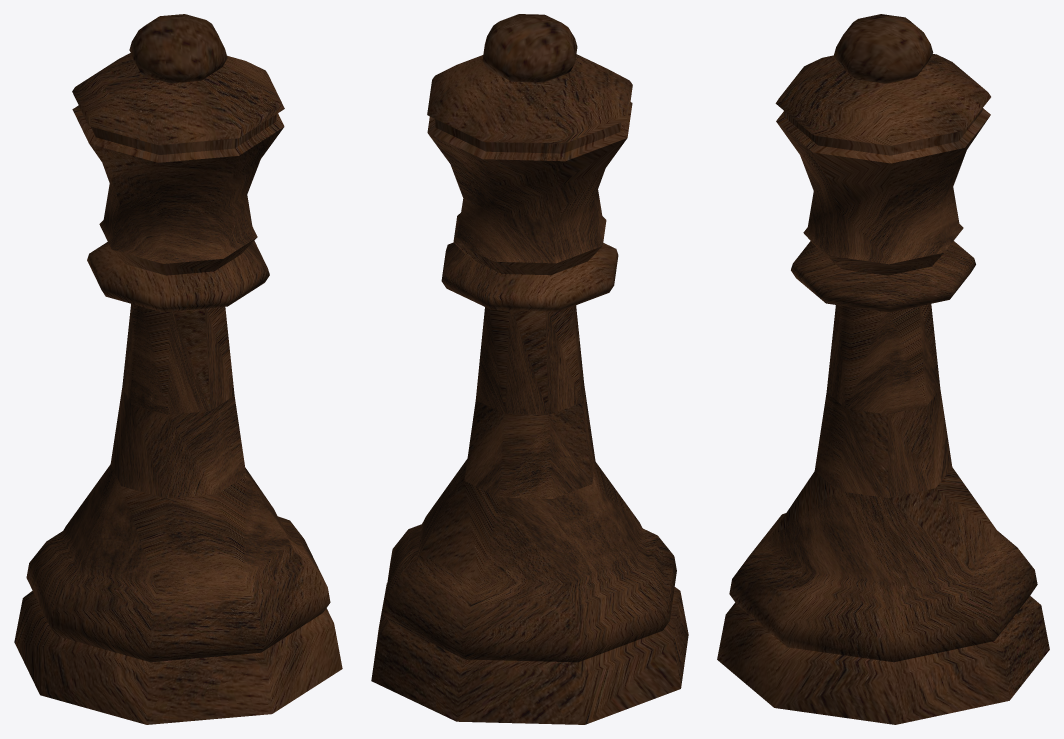
File: gercek4_q_b.glb
3 views of the same model, side by side, from view 1: azimuth 30°, elevation 25°; view 2: azimuth 150°, elevation 25°; view 3: azimuth 270°, elevation 25° (orthographic).
Visible parts, largest first — view 1: BlackQueen_7; view 2: BlackQueen_7; view 3: BlackQueen_7.
Part boxes in pixels (x1,y1,x2,y2): BlackQueen_7: (14,14,342,724); BlackQueen_7: (371,14,688,724); BlackQueen_7: (717,14,1049,724).
Size of the model in its own units: 0.0296 by 0.0621 by 0.0296.
1 material, 1 textured.
